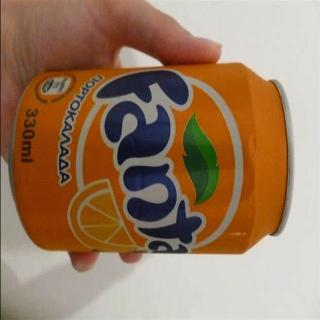Anorganik: (3, 52, 300, 264)
